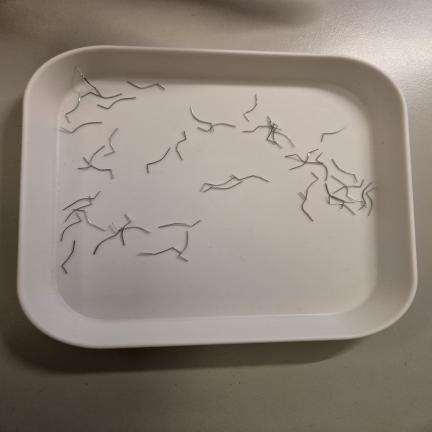probe: (147, 148, 170, 173), (321, 123, 349, 142), (61, 122, 102, 133), (62, 240, 75, 274), (104, 128, 118, 156), (244, 94, 258, 121), (127, 81, 165, 90), (158, 220, 200, 228), (176, 130, 187, 160)
